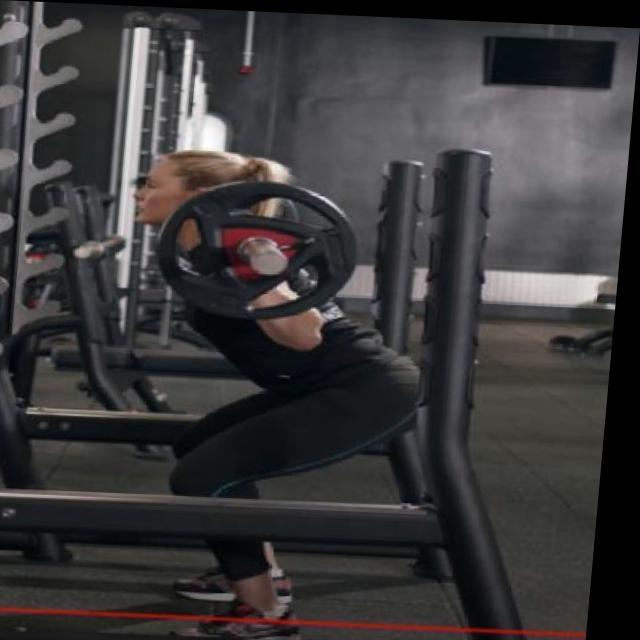barbell: (154, 172, 371, 326)
